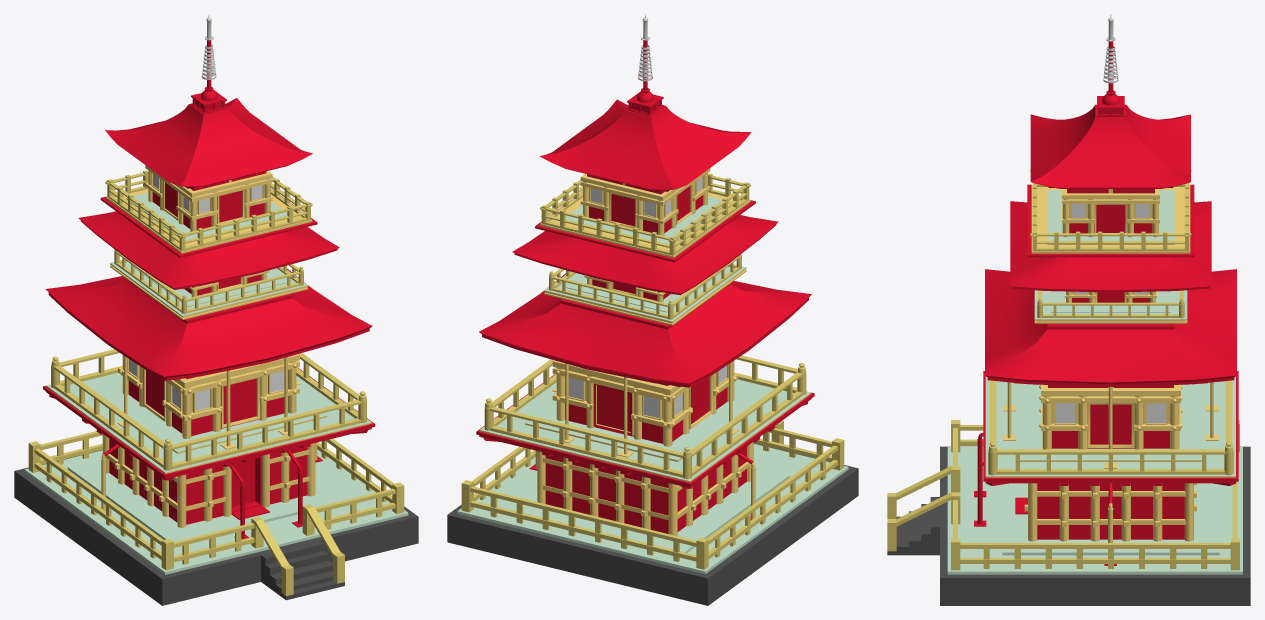
File: japanbuilding.fbx
3 views of the same model, side by side, from view 1: azimuth 30°, elevation 25°; view 2: azimuth 150°, elevation 25°; view 3: azimuth 270°, elevation 25° (orthographic). The views are drawn at different scales.
Visible parts, largest first — view 1: Japanese_Shrine, Japanese_Shrine.013, Japanese_Shrine.005, Japanese_Shrine.001, Japanese_Shrine.011, Japanese_Shrine.010, Japanese_Shrine.004, Japanese_Shrine.009, Japanese_Shrine.008, Japanese_Shrine.003, Japanese_Shrine.007, Japanese_Shrine.014 (+2 smaller); view 2: Japanese_Shrine, Japanese_Shrine.013, Japanese_Shrine.005, Japanese_Shrine.011, Japanese_Shrine.001, Japanese_Shrine.010, Japanese_Shrine.004, Japanese_Shrine.009, Japanese_Shrine.008, Japanese_Shrine.003, Japanese_Shrine.007, Japanese_Shrine.006 (+1 smaller); view 3: Japanese_Shrine, Japanese_Shrine.013, Japanese_Shrine.005, Japanese_Shrine.001, Japanese_Shrine.011, Japanese_Shrine.004, Japanese_Shrine.008, Japanese_Shrine.010, Japanese_Shrine.009, Japanese_Shrine.007, Japanese_Shrine.003, Japanese_Shrine.014 (+2 smaller).
Part boxes in pixels (left/top/right/bottom): Japanese_Shrine: left=24, top=434, right=408, bottom=574; Japanese_Shrine.013: left=43, top=354, right=375, bottom=480; Japanese_Shrine.005: left=45, top=266, right=372, bottom=380; Japanese_Shrine.001: left=105, top=14, right=312, bottom=188; Japanese_Shrine.011: left=14, top=450, right=418, bottom=605; Japanese_Shrine.010: left=28, top=431, right=404, bottom=596; Japanese_Shrine.004: left=78, top=211, right=339, bottom=289; Japanese_Shrine.009: left=51, top=349, right=366, bottom=470; Japanese_Shrine.008: left=106, top=165, right=312, bottom=253; Japanese_Shrine.003: left=105, top=170, right=312, bottom=251; Japanese_Shrine.007: left=110, top=262, right=308, bottom=319; Japanese_Shrine.014: left=261, top=541, right=344, bottom=600; Japanese_Shrine: left=457, top=442, right=848, bottom=574; Japanese_Shrine.013: left=476, top=360, right=814, bottom=489; Japanese_Shrine.005: left=479, top=273, right=811, bottom=387; Japanese_Shrine.011: left=447, top=443, right=858, bottom=605; Japanese_Shrine.001: left=539, top=14, right=750, bottom=191; Japanese_Shrine.010: left=461, top=420, right=844, bottom=569; Japanese_Shrine.004: left=512, top=215, right=778, bottom=295; Japanese_Shrine.009: left=484, top=355, right=806, bottom=479; Japanese_Shrine.008: left=540, top=168, right=750, bottom=258; Japanese_Shrine.003: left=540, top=173, right=750, bottom=255; Japanese_Shrine.007: left=544, top=266, right=746, bottom=325; Japanese_Shrine.006: left=549, top=254, right=741, bottom=319; Japanese_Shrine: left=947, top=433, right=1242, bottom=574; Japanese_Shrine.013: left=983, top=371, right=1238, bottom=485; Japanese_Shrine.005: left=985, top=269, right=1236, bottom=386; Japanese_Shrine.001: left=1030, top=14, right=1190, bottom=188; Japanese_Shrine.011: left=940, top=446, right=1250, bottom=605; Japanese_Shrine.004: left=1010, top=201, right=1211, bottom=292; Japanese_Shrine.008: left=1031, top=184, right=1190, bottom=253; Japanese_Shrine.010: left=887, top=420, right=1239, bottom=570; Japanese_Shrine.009: left=988, top=380, right=1233, bottom=475; Japanese_Shrine.007: left=1034, top=290, right=1187, bottom=323; Japanese_Shrine.003: left=1030, top=169, right=1191, bottom=251; Japanese_Shrine.014: left=887, top=497, right=939, bottom=555.
Size of the model in its own units: 142 by 265 by 166.
